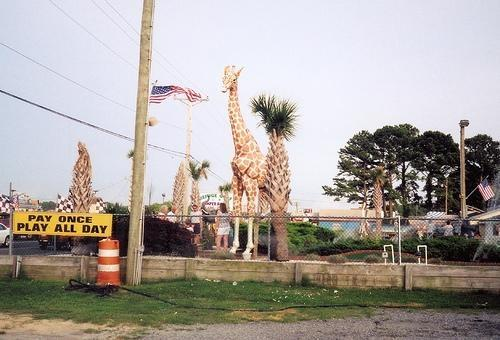car: (38, 234, 74, 250), (0, 224, 12, 246)
